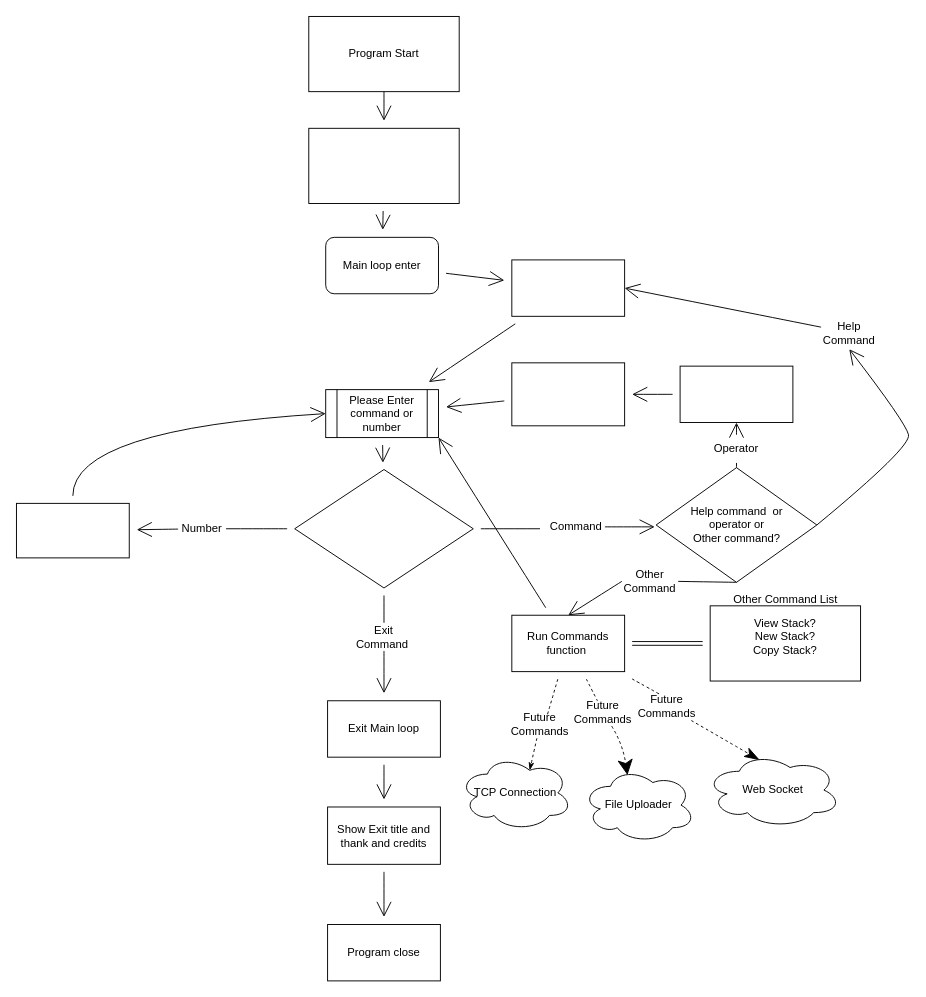
Some shapes in this 926 by 997 pixel diagram are drawn without their labels. Here are the shapes that lost their labels. From the top down, the centre of each, then its label:
At (x=383, y=165): "Show title".
At (x=568, y=287): "Show help".
At (x=568, y=394): "Remove opertated numbers from stack and push in results as last number.".
At (x=736, y=394): "Act on the last and second to last numbers based on the operator.".
At (x=72, y=530): "Store Number in stack".
At (x=383, y=528): "Number or Command or Exit Command?".
